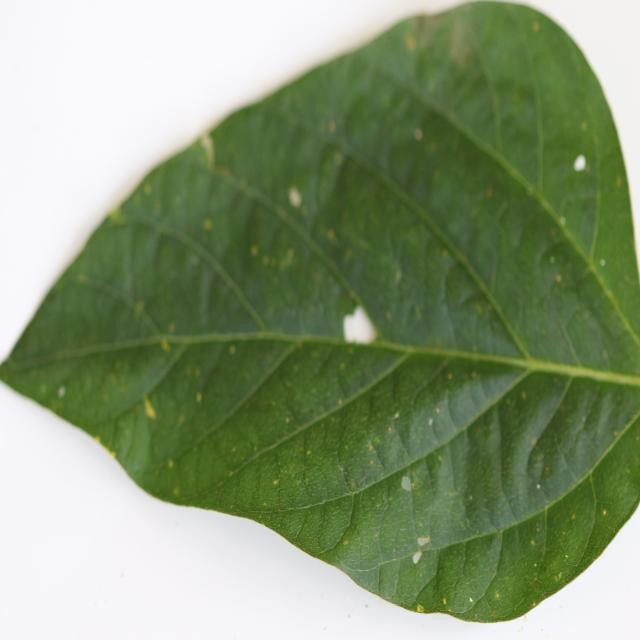Soybean: (0, 0, 640, 626)
downey_mildew: (424, 77, 631, 361), (326, 358, 613, 526), (358, 36, 554, 258), (28, 322, 625, 393), (332, 155, 517, 345), (189, 355, 374, 500), (125, 203, 287, 345), (18, 262, 170, 376), (258, 457, 456, 539), (163, 311, 253, 457), (21, 328, 346, 367), (514, 470, 603, 607), (261, 158, 350, 270), (391, 358, 474, 465), (334, 496, 407, 582), (103, 394, 166, 481), (526, 491, 557, 603)
